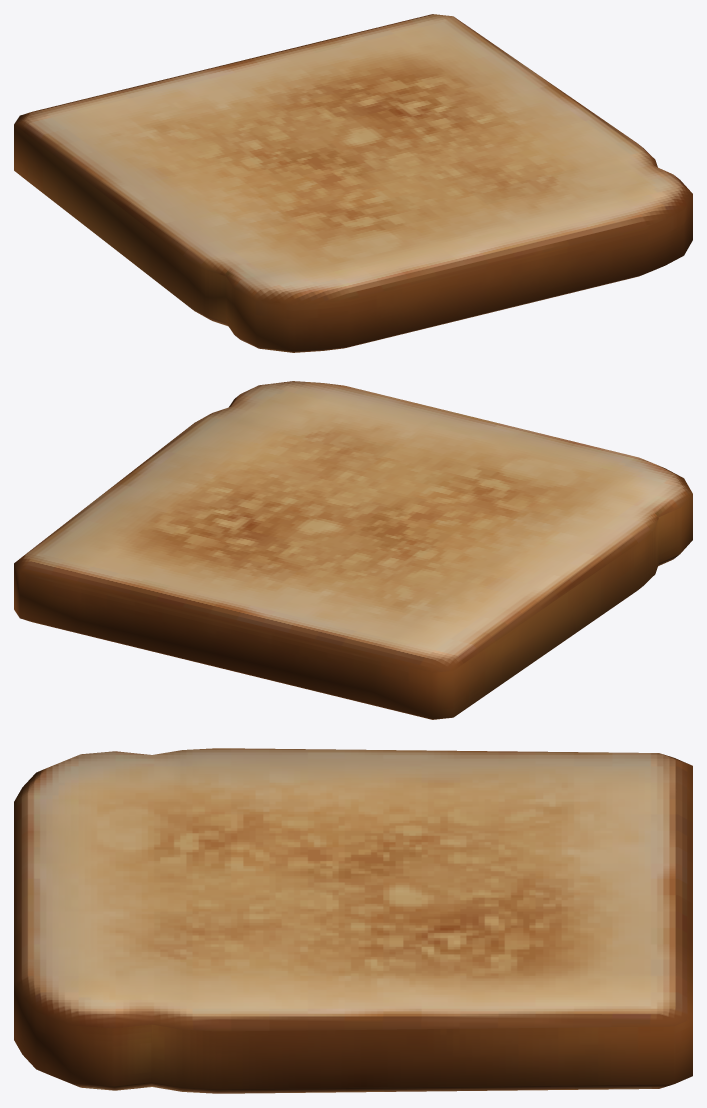
The model's file is ref_bbqtoast.fbx.
3 views of the same model, one above another, from view 1: azimuth 30°, elevation 25°; view 2: azimuth 150°, elevation 25°; view 3: azimuth 270°, elevation 25° (orthographic). The views are drawn at different scales.
Parts seen in each view (by area): view 1: ref_bbqtoast; view 2: ref_bbqtoast; view 3: ref_bbqtoast.
Boxes of the visible parts, x1=… form: ref_bbqtoast: x1=14, y1=14, x2=692, y2=352; ref_bbqtoast: x1=14, y1=381, x2=692, y2=719; ref_bbqtoast: x1=14, y1=748, x2=692, y2=1093.
Bounding box in the file's own units: 97.14 × 12.14 × 100.
1 material, 1 textured.
